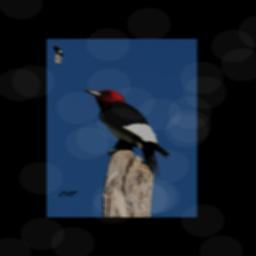Woodpecker: (81, 88, 172, 177)
